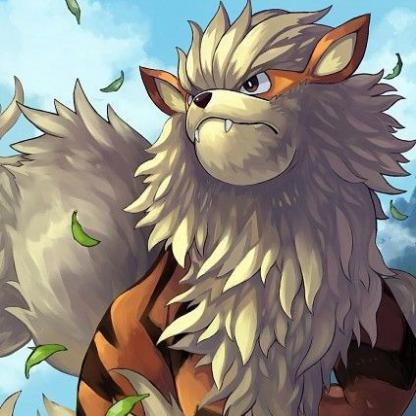Arcanine: (20, 5, 416, 416)
